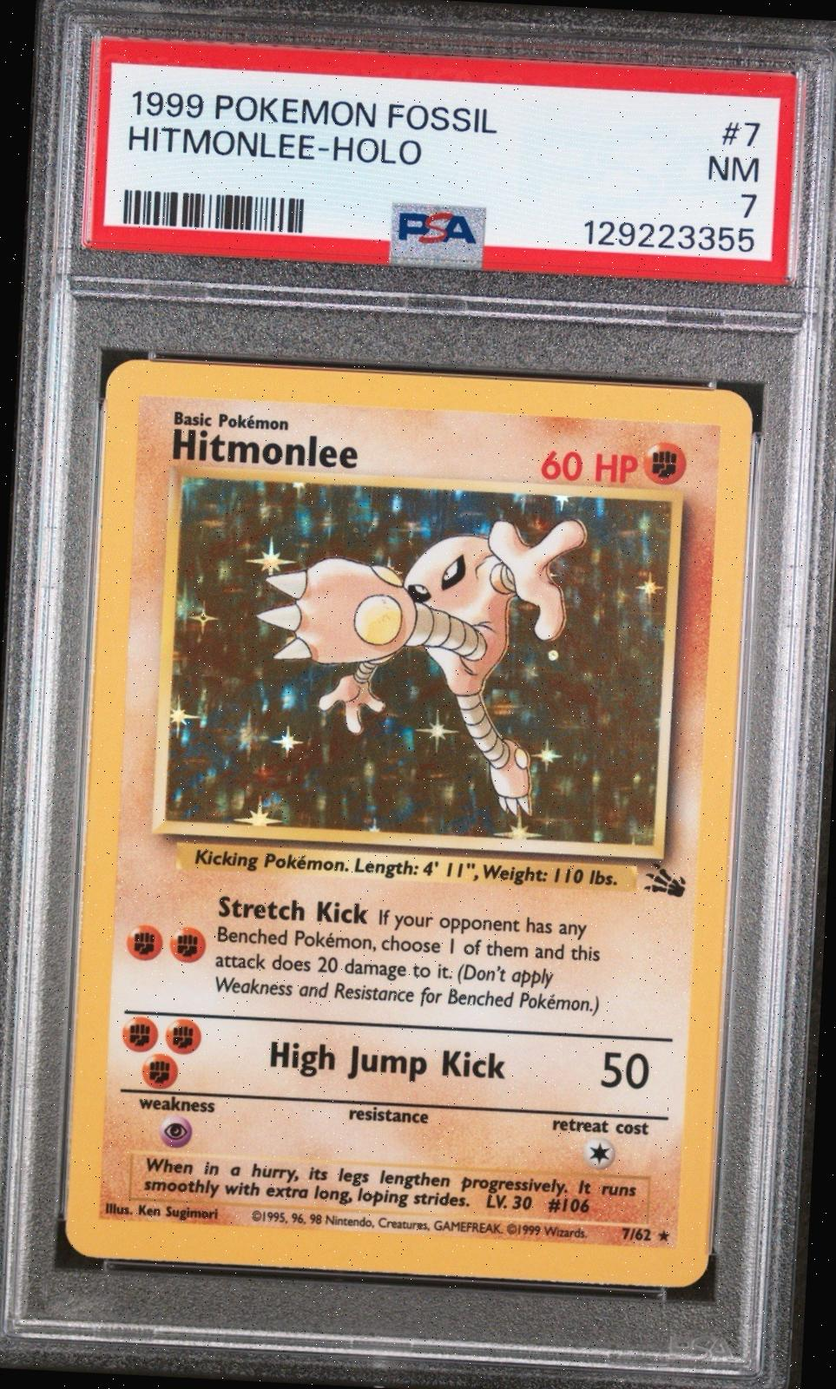card-2UtV: (64, 358, 754, 1289)
